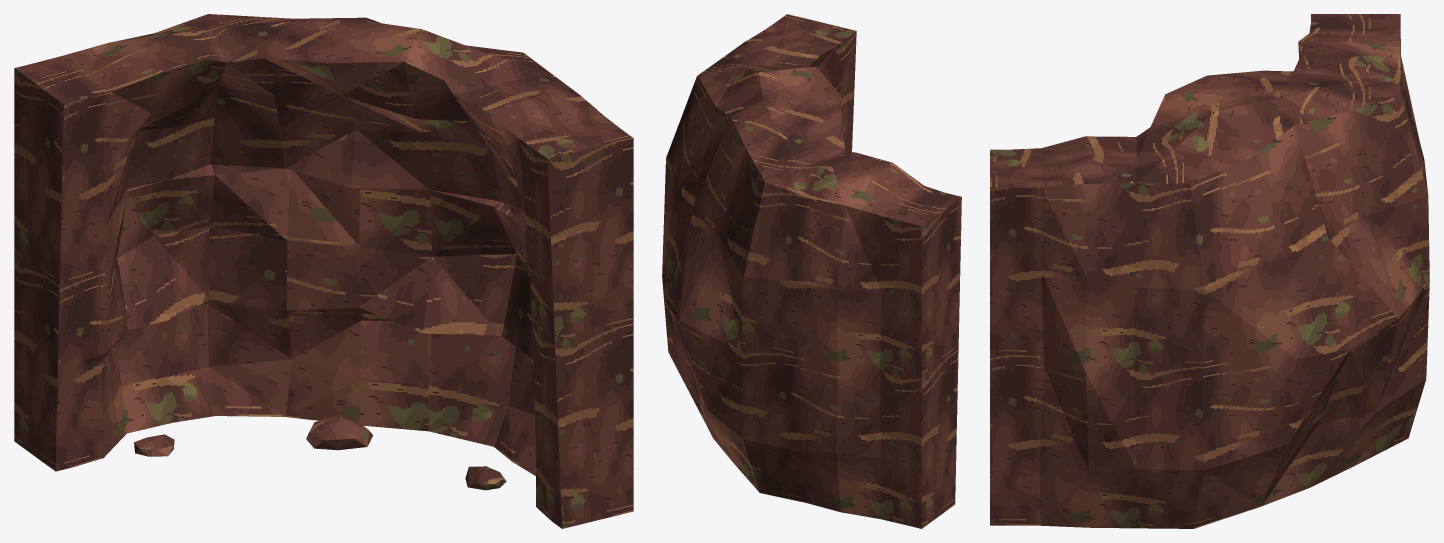
File: SM_AN02_EarthCorner.fbx
The picture shows the model from 3 angles, left to right: view 1: azimuth 30°, elevation 25°; view 2: azimuth 150°, elevation 25°; view 3: azimuth 270°, elevation 25°; orthographic projection. The views are drawn at different scales.
Visible parts, largest first — view 1: AN02a_Earth; view 2: AN02a_Earth; view 3: AN02a_Earth.
Boxes of the visible parts, x1=… form: AN02a_Earth: x1=14, y1=14, x2=633, y2=528; AN02a_Earth: x1=662, y1=14, x2=961, y2=528; AN02a_Earth: x1=990, y1=14, x2=1429, y2=528.
Bounding box in the file's own units: 4.75 × 4.43 × 4.71.
